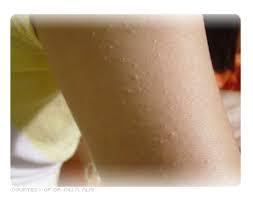Goosebumps: (31, 15, 238, 183)
